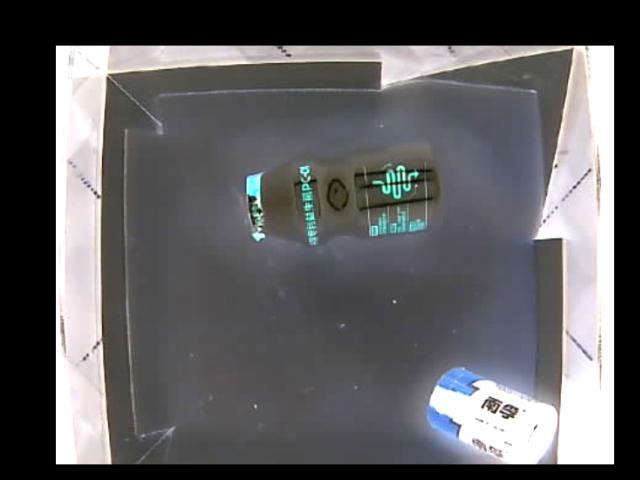Battery: (424, 364, 554, 464)
Bottle: (245, 139, 440, 248)
